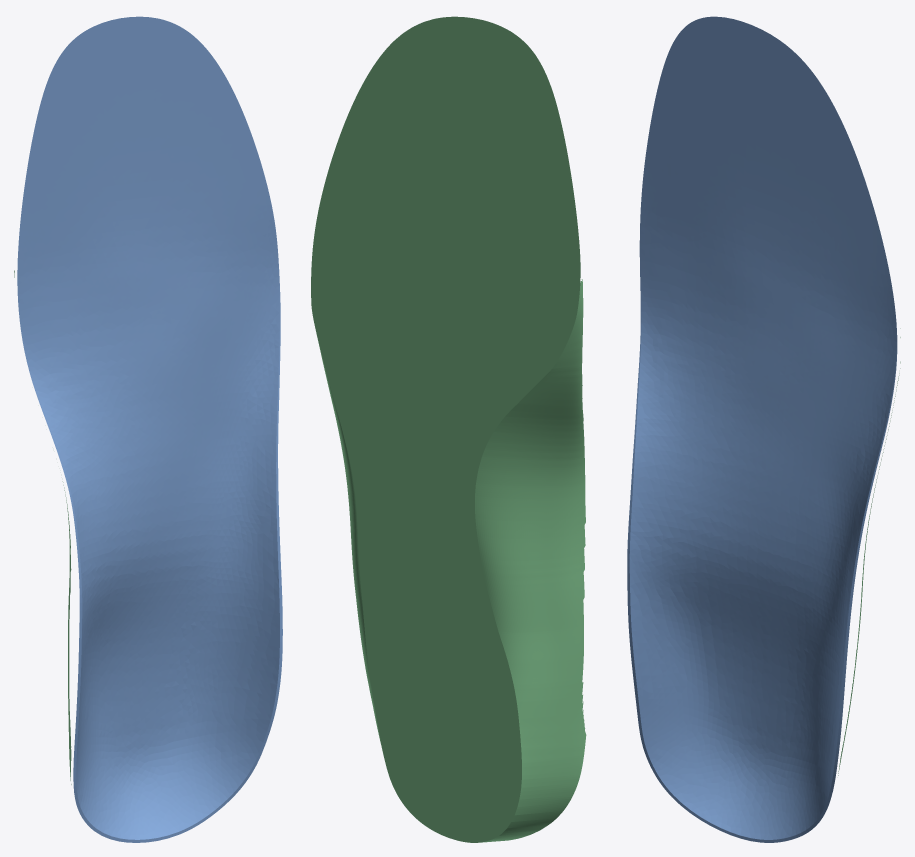
3 views of the same model, side by side, from view 1: azimuth 30°, elevation 25°; view 2: azimuth 150°, elevation 25°; view 3: azimuth 330°, elevation 25° (orthographic). The views are drawn at different scales.
Visible parts, largest first — view 1: Top, Bottom; view 2: Bottom; view 3: Top.
Boxes of the visible parts, x1=… form: Top: x1=17, y1=16, x2=282, y2=842; Bottom: x1=14, y1=270, x2=71, y2=784; Bottom: x1=311, y1=16, x2=586, y2=842; Top: x1=627, y1=16, x2=897, y2=842.
Size of the model in its own units: 91.69 by 272 by 25.24.
